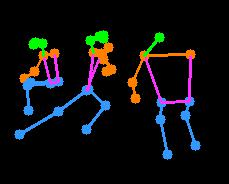normal: (127, 28, 208, 163), (13, 29, 66, 120)
